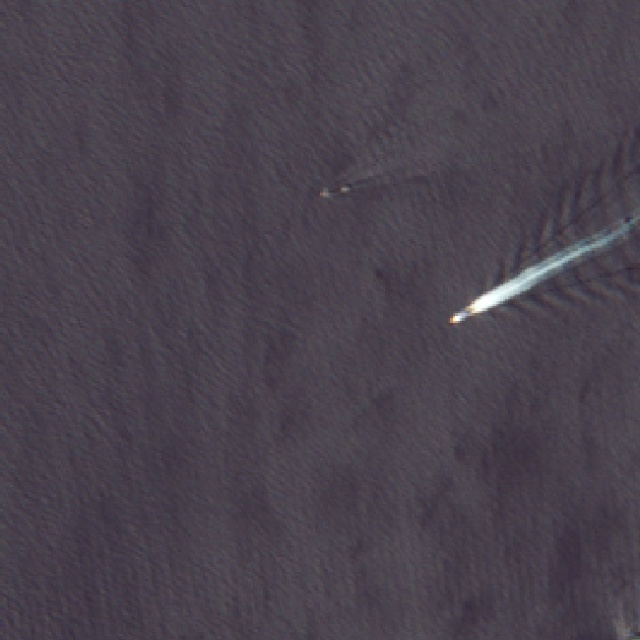wake: (411, 191, 624, 382)
